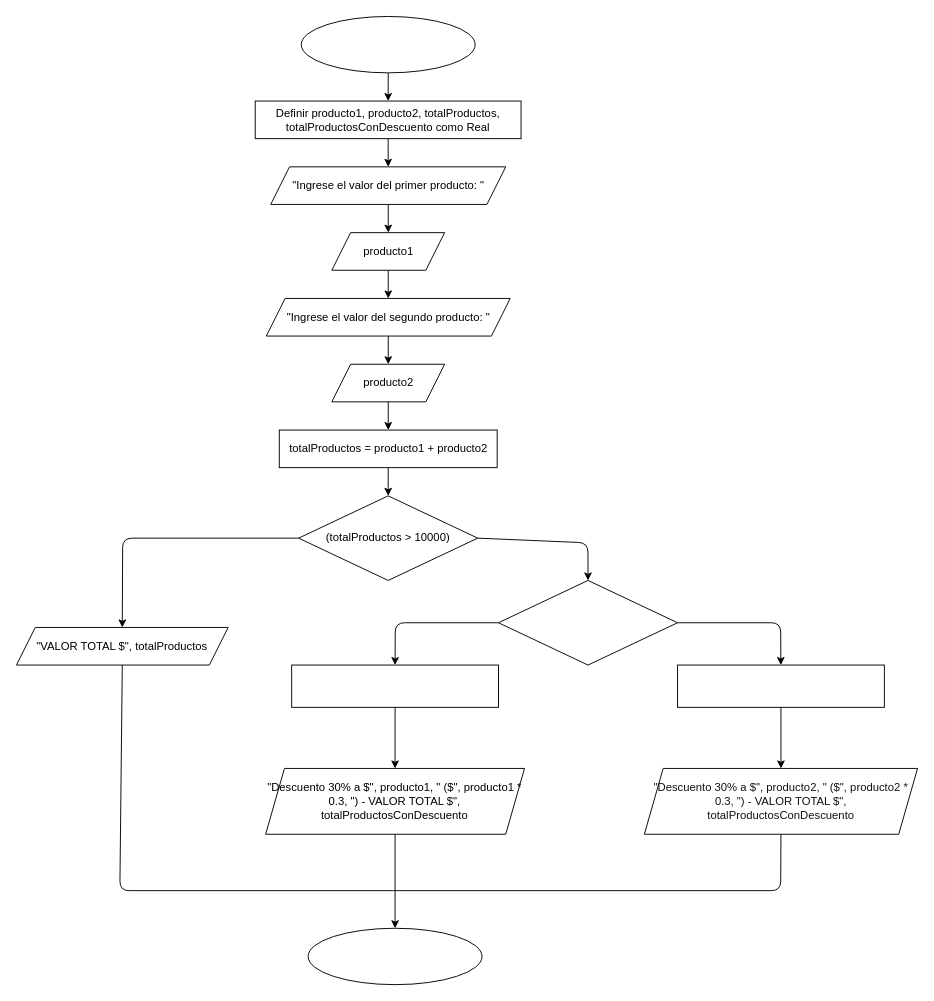
Image size: 934x1001. Some labels were removed from this diagram. The box of each missing label's shape, as (x1, y1, x2, y2) in pixels:
(producto1 > producto2): (498, 580, 678, 665)
Algoritmo Ejercicio3: (300, 16, 475, 73)
FinAlgoritmo: (307, 927, 482, 985)
totalProductosConDescuento = producto1 + (producto2 * 0.3): (677, 664, 884, 707)
totalProductosConDescuento = producto2 + (producto1 * 0.3): (291, 664, 498, 707)
